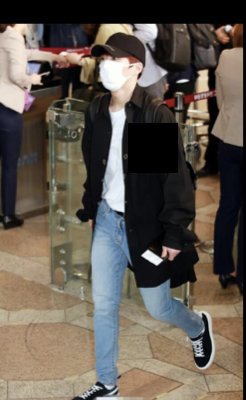with_mask: (98, 55, 128, 93)
